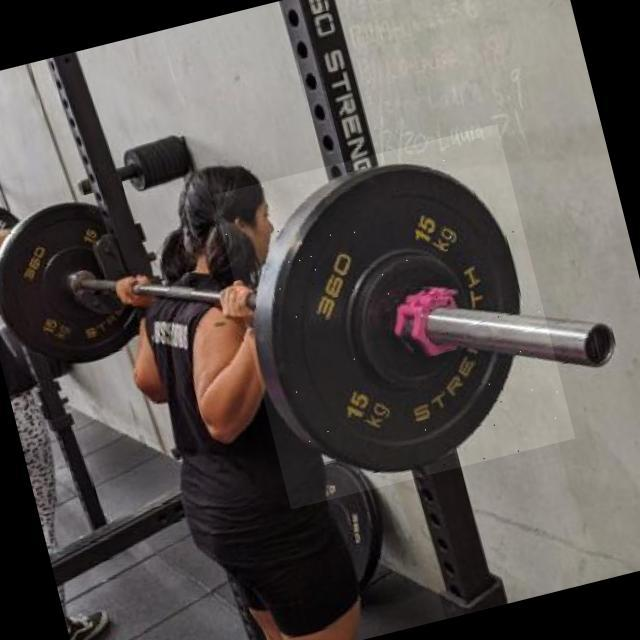barbell: (213, 125, 576, 510)
